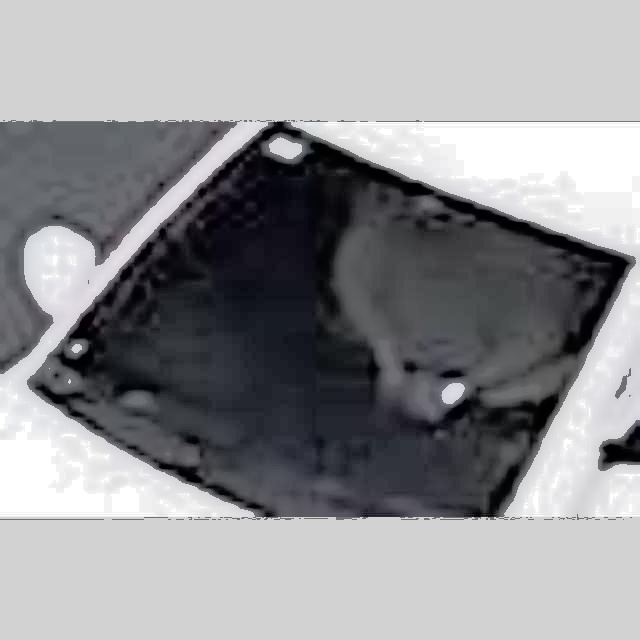tidak-pakai: (323, 208, 587, 426)
